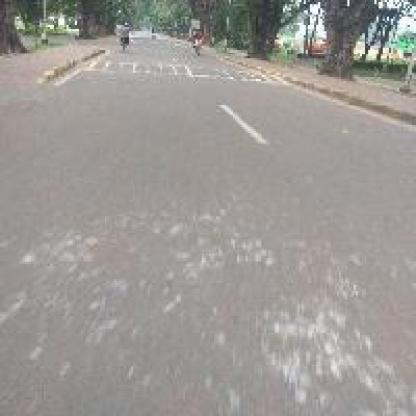Speed Bump: (85, 58, 285, 86)
